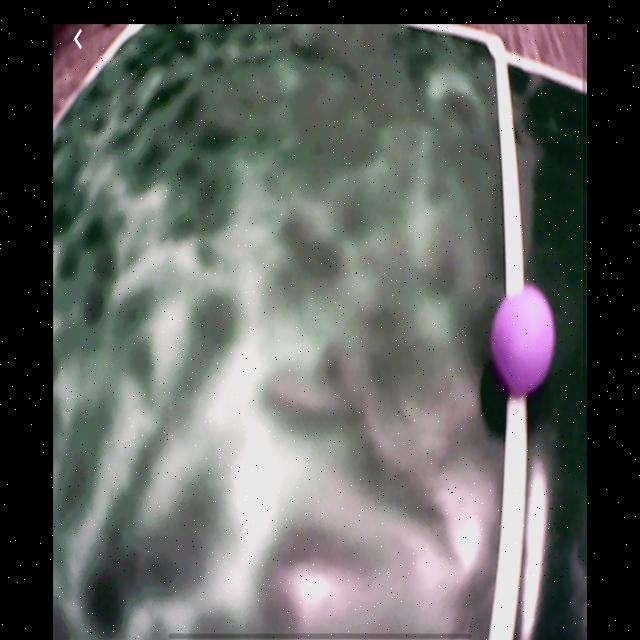ball: (492, 286, 559, 398)
